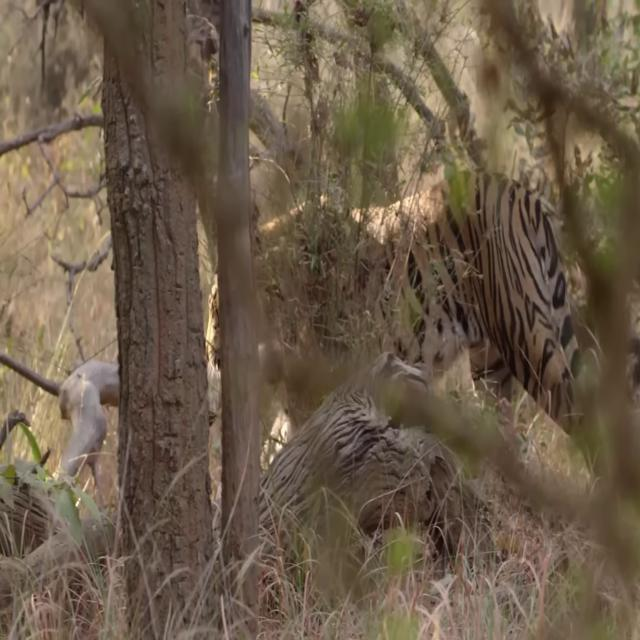tiger: (205, 166, 640, 474)
